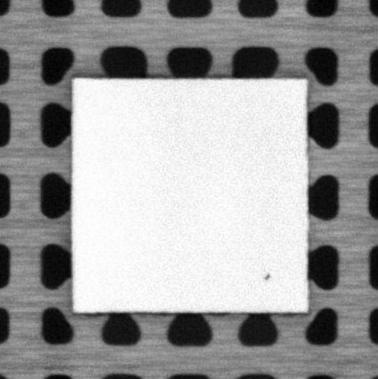DIE_INK: (261, 270, 273, 281)
